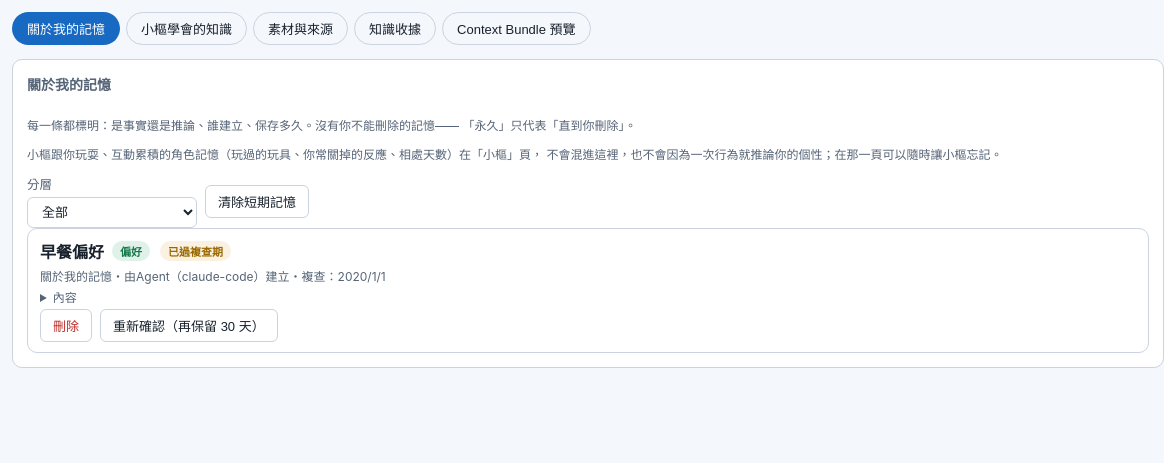
Test: memory-ui-004：重新確認的天數與降級要誠實 › 後端壓短並降級時，畫面照實說，不只顯示成功
Click the button "重新確認（再保留 30 天）": coordinates (189, 326) [100,309,278,342]
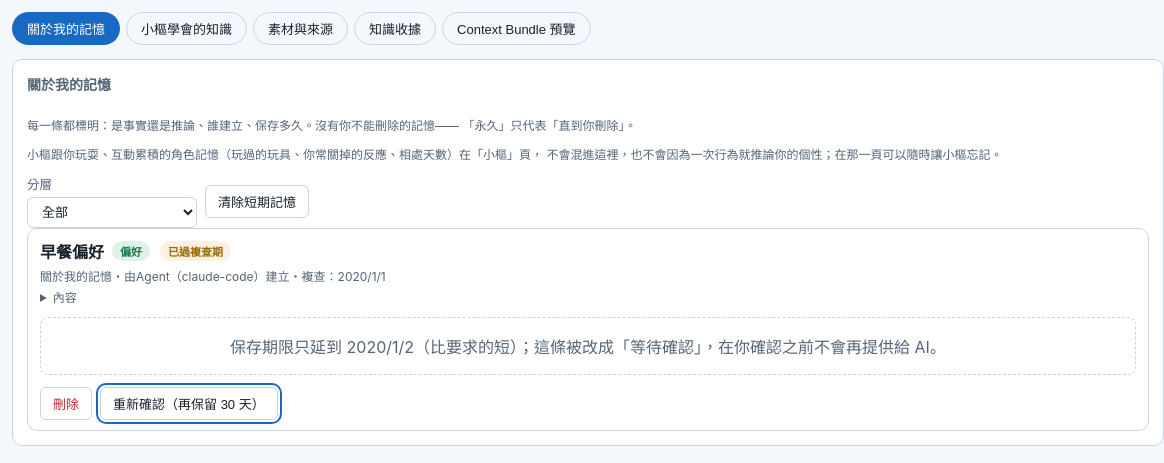
Expected: the text "保存期限只延到 2020/1/2（比要求的短）；這條被改成「等待確認」，在你確認之前不會再提供給 AI。" is shown, [40,317,1136,375]
Expected: the text "早餐偏好" shows "不會再提供給 AI", [230,337,946,357]
